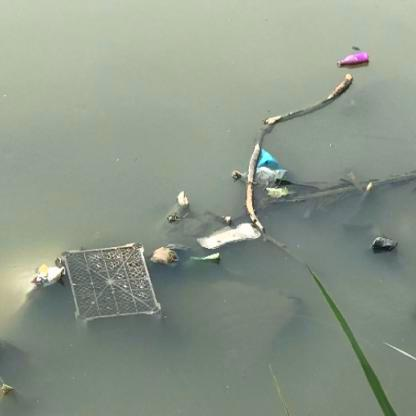Plastic: (337, 50, 373, 69)
Trash: (56, 242, 166, 327), (254, 145, 283, 169)
